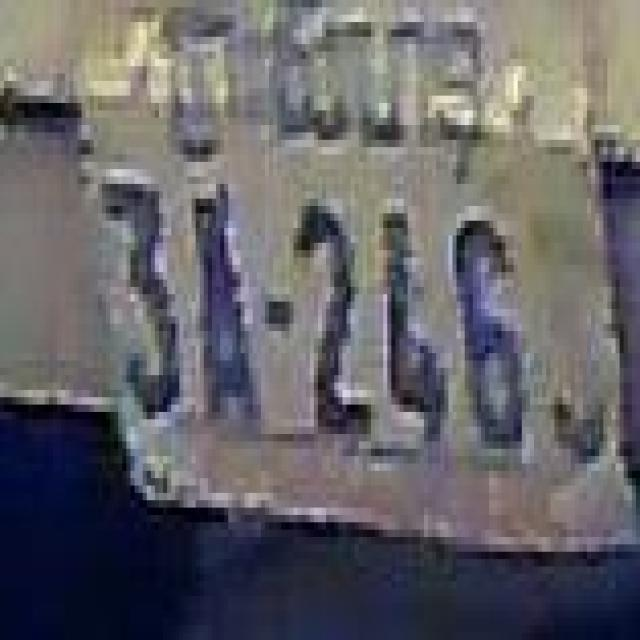Preah_Sihanouk: (163, 0, 483, 183)
